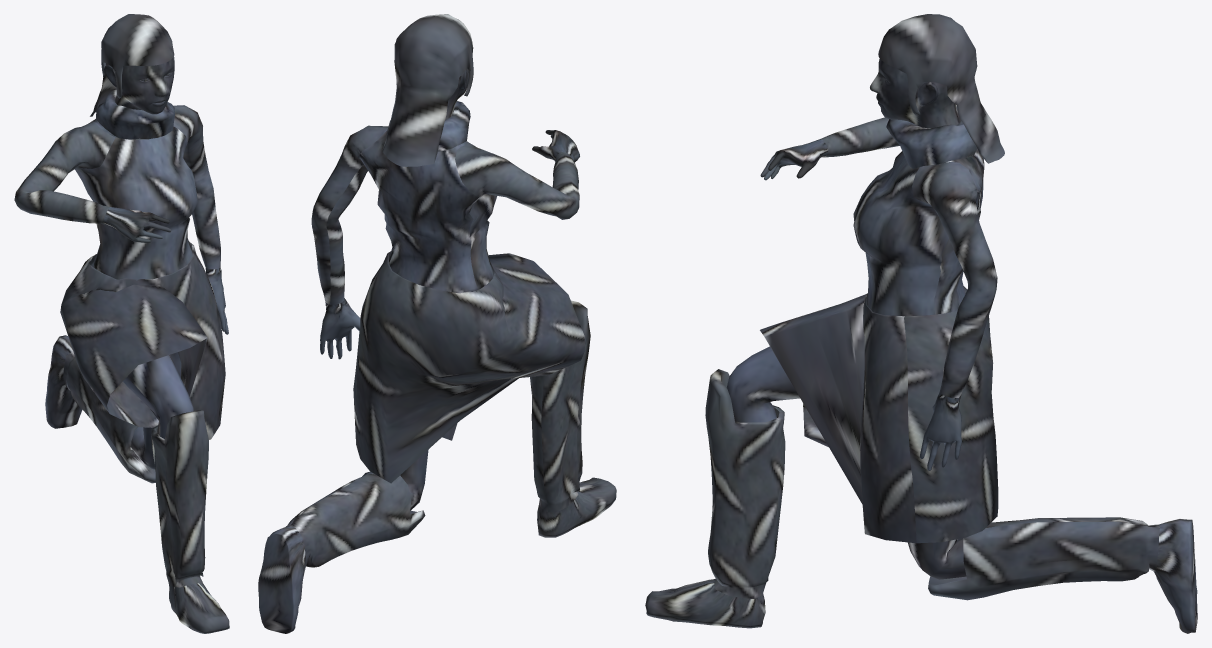
The model's file is jump.obj.
The picture shows the model from 3 angles, left to right: view 1: azimuth 30°, elevation 25°; view 2: azimuth 150°, elevation 25°; view 3: azimuth 270°, elevation 25°; orthographic projection. The views are drawn at different scales.
Visible parts, largest first — view 1: Mesh_and_Rig Ninja polySurface1; view 2: Mesh_and_Rig Ninja polySurface1; view 3: Mesh_and_Rig Ninja polySurface1.
Boxes of the visible parts, x1,y1,x2,y2 form: Mesh_and_Rig Ninja polySurface1: (14,14,229,633); Mesh_and_Rig Ninja polySurface1: (258,14,616,633); Mesh_and_Rig Ninja polySurface1: (645,14,1197,633).
Bounding box in the file's own units: 1.56 × 3.55 × 2.85.
